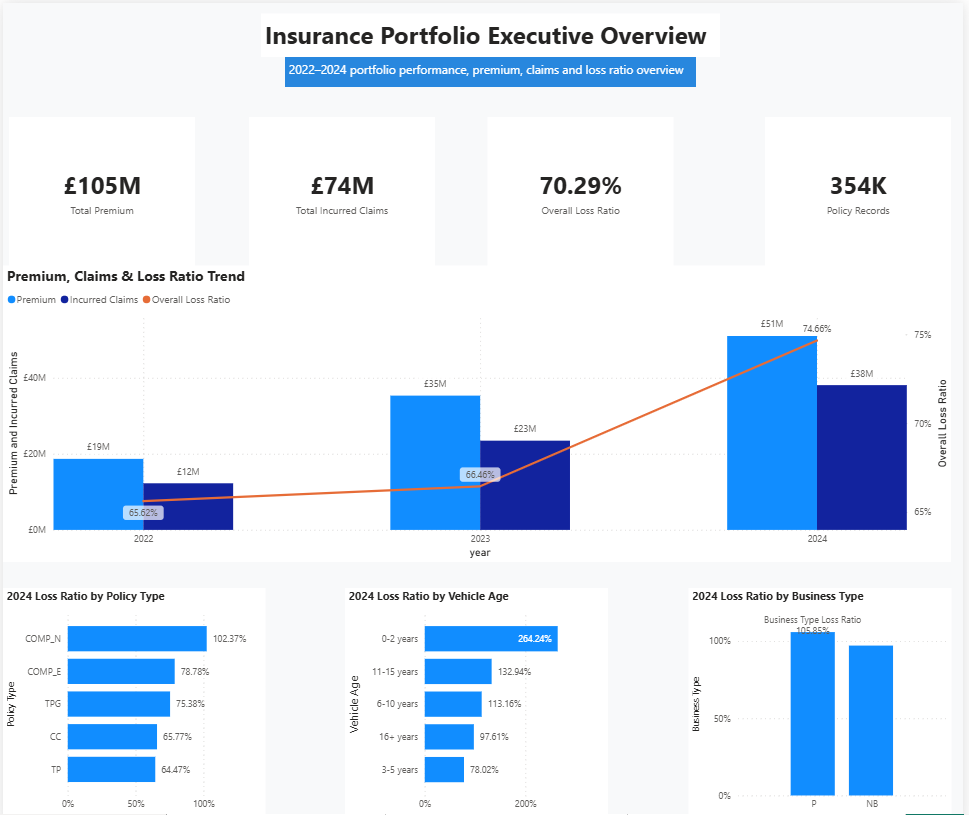

The dashboard page shown, as its layout file describes it:
{"tool":"powerbi","page":{"name":"Executive Overview","canvas":[1280,1100],"ordinal":0},"visuals":[{"type":"card","fields":{"Values":["Sum(analytics vw_portfolio_yearly_summary.total_premium)"]},"box":[8.9,151.8,247.8,198.7],"z":0},{"type":"card","fields":{"Values":["Sum(analytics vw_portfolio_yearly_summary.total_incurred)"]},"box":[327.5,151.8,247.8,198.7],"z":1000},{"type":"card","fields":{"Values":["analytics vw_compn_risk_segments.Overall Loss Ratio"]},"box":[646,151.8,247.8,198.7],"z":2000},{"type":"card","fields":{"Values":["Sum(analytics vw_portfolio_yearly_summary.policy_records)"]},"box":[1015.9,151.8,247.8,198.7],"z":3000},{"type":"lineClusteredColumnComboChart","title":"Premium, Claims & Loss Ratio Trend","fields":{"Category":["analytics vw_portfolio_yearly_summary.year"],"Y":["Sum(analytics vw_portfolio_yearly_summary.total_premium)","Sum(analytics vw_portfolio_yearly_summary.total_incurred)"],"Y2":["analytics vw_portfolio_yearly_summary.Overall Loss Ratio"]},"box":[0,350.5,1263.8,395.2],"z":4000},{"type":"clusteredBarChart","title":"2024 Loss Ratio by Policy Type","fields":{"Category":["analytics vw_policy_type_performance.policy_type"],"Y":["analytics vw_policy_type_performance.Policy Type Loss Ratio"]},"box":[0,780.7,350,319],"z":5000},{"type":"clusteredBarChart","title":"2024 Loss Ratio by Vehicle Age","fields":{"Category":["analytics vw_compn_risk_segments.vehicle_age_band"],"Y":["analytics vw_compn_risk_segments.Vehicle Age Loss Ratio"]},"box":[456.3,780.7,350.5,319.3],"z":6000},{"type":"clusteredColumnChart","title":"2024 Loss Ratio by Business Type","fields":{"Category":["analytics vw_compn_risk_segments.business_type"],"Y":["analytics vw_compn_risk_segments.Business Type Loss Ratio"]},"box":[913.2,780.7,350.5,319.3],"z":7000},{"type":"textbox","box":[348.3,64.8,482.3,38],"z":8000},{"type":"textbox","box":[343.9,13.4,591.7,58.1],"z":9000}]}

Visuals, with their boxes in screenshot pixels (x1, y1, x2, y2), scaled from the page's 1280x1100 canvas onto the 969x815 screenshot:
card - Sum(analytics vw_portfolio_yearly_summary.total_premium): <box>7,112,194,260</box>
card - Sum(analytics vw_portfolio_yearly_summary.total_incurred): <box>248,112,436,260</box>
card - analytics vw_compn_risk_segments.Overall Loss Ratio: <box>489,112,677,260</box>
card - Sum(analytics vw_portfolio_yearly_summary.policy_records): <box>769,112,957,260</box>
"Premium, Claims & Loss Ratio Trend" lineClusteredColumnComboChart: <box>0,260,957,552</box>
"2024 Loss Ratio by Policy Type" clusteredBarChart: <box>0,578,265,814</box>
"2024 Loss Ratio by Vehicle Age" clusteredBarChart: <box>345,578,611,814</box>
"2024 Loss Ratio by Business Type" clusteredColumnChart: <box>691,578,957,814</box>
textbox: <box>264,48,629,76</box>
textbox: <box>260,10,708,53</box>
